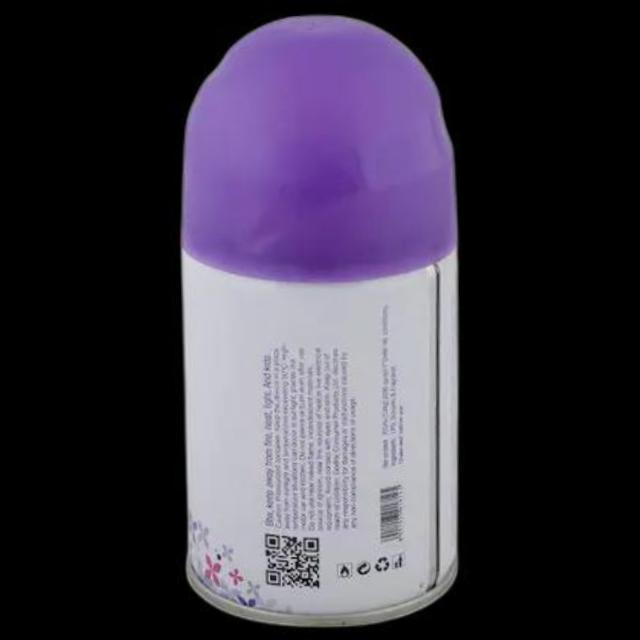Aer Matic Violet Valley Bloom Automatic Spray Diffuser Refill 225 ml: (177, 6, 463, 632)
